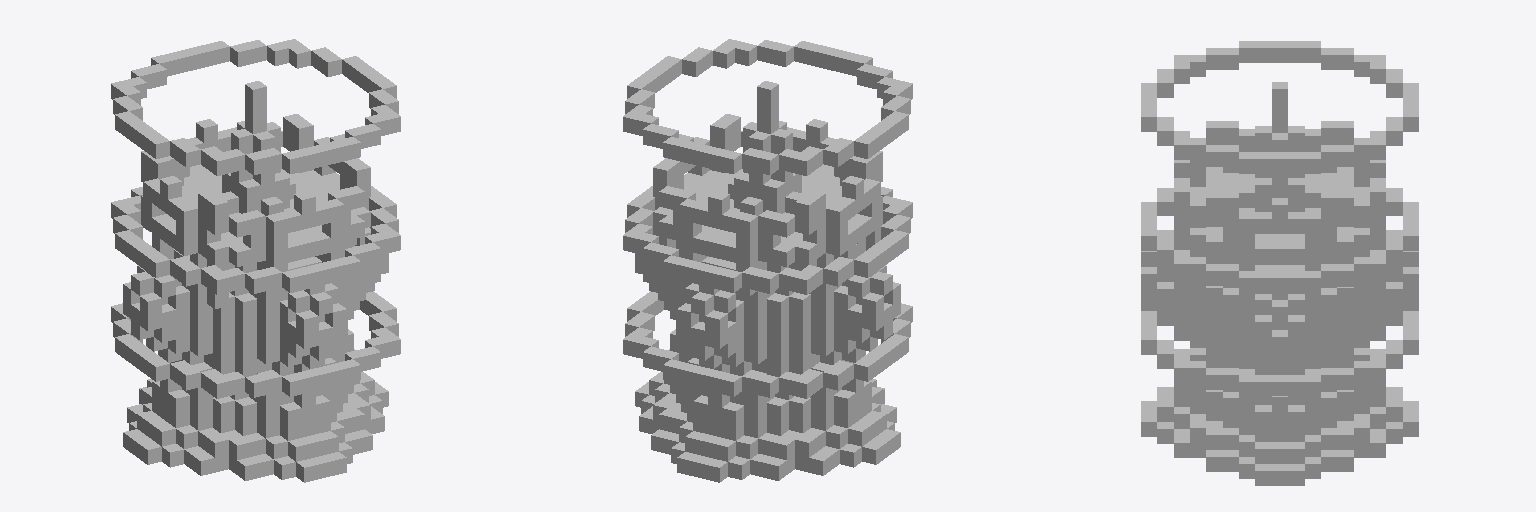
File: Snow_tower_3.obj
3 renders of one model, left to right at view 1: azimuth 30°, elevation 25°; view 2: azimuth 150°, elevation 25°; view 3: azimuth 270°, elevation 25°, orthographic.
Bounding box in the file's own units: 17 × 23 × 17.